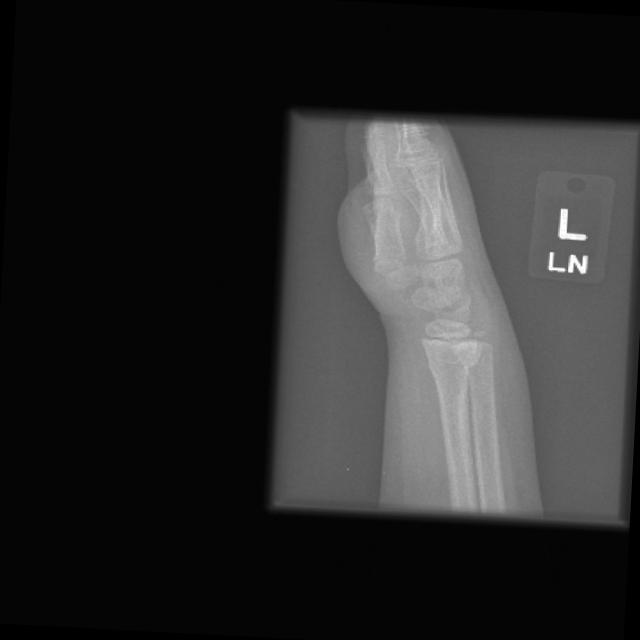fingers positive: (414, 342, 492, 379)
